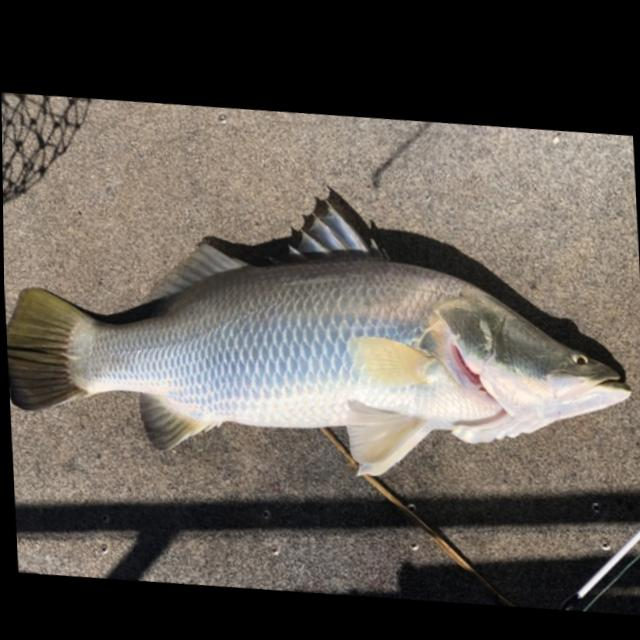Seabass: (2, 150, 631, 515)
